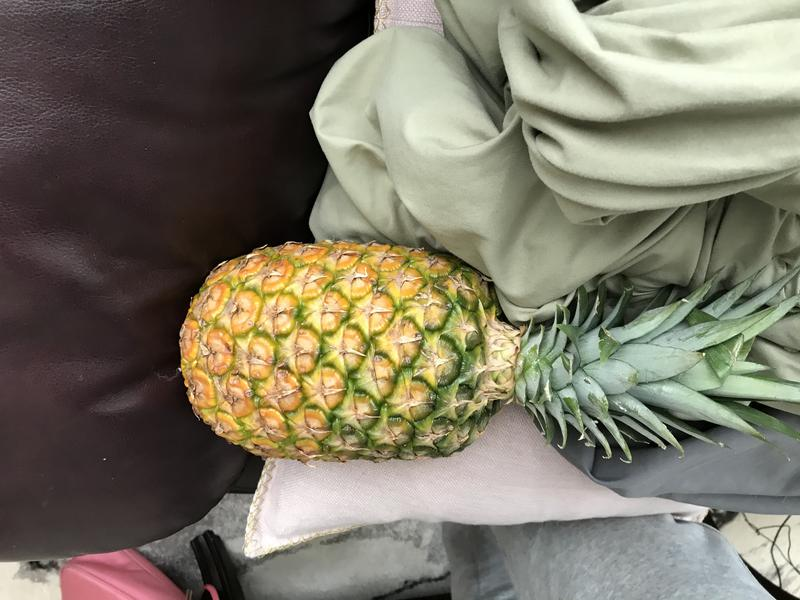pineapple: (164, 228, 800, 473)
